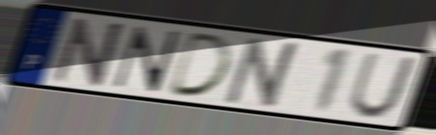1: (312, 46, 355, 116)
D: (163, 30, 237, 100)
N: (220, 36, 307, 112), (49, 15, 129, 88), (109, 24, 185, 94)
U: (345, 51, 420, 122)
